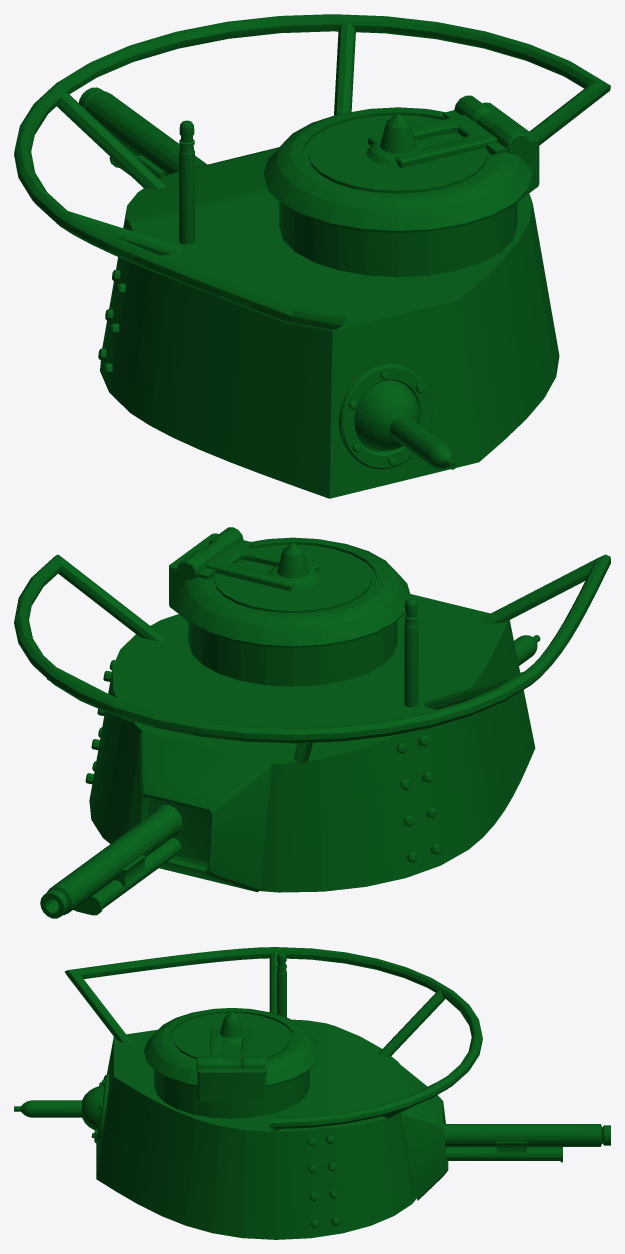
The model's file is tiha_houtou.fbx.
The picture shows the model from 3 angles, top to bottom: view 1: azimuth 30°, elevation 25°; view 2: azimuth 150°, elevation 25°; view 3: azimuth 270°, elevation 25°; orthographic projection. The views are drawn at different scales.
Parts seen in each view (by area): view 1: houtou; view 2: houtou; view 3: houtou.
Boxes of the visible parts, left/top/right/bottom form: houtou: left=14, top=14, right=610, bottom=498; houtou: left=14, top=527, right=610, bottom=918; houtou: left=14, top=947, right=610, bottom=1239.
Bounding box in the file's own units: 181 × 86.45 × 261.
